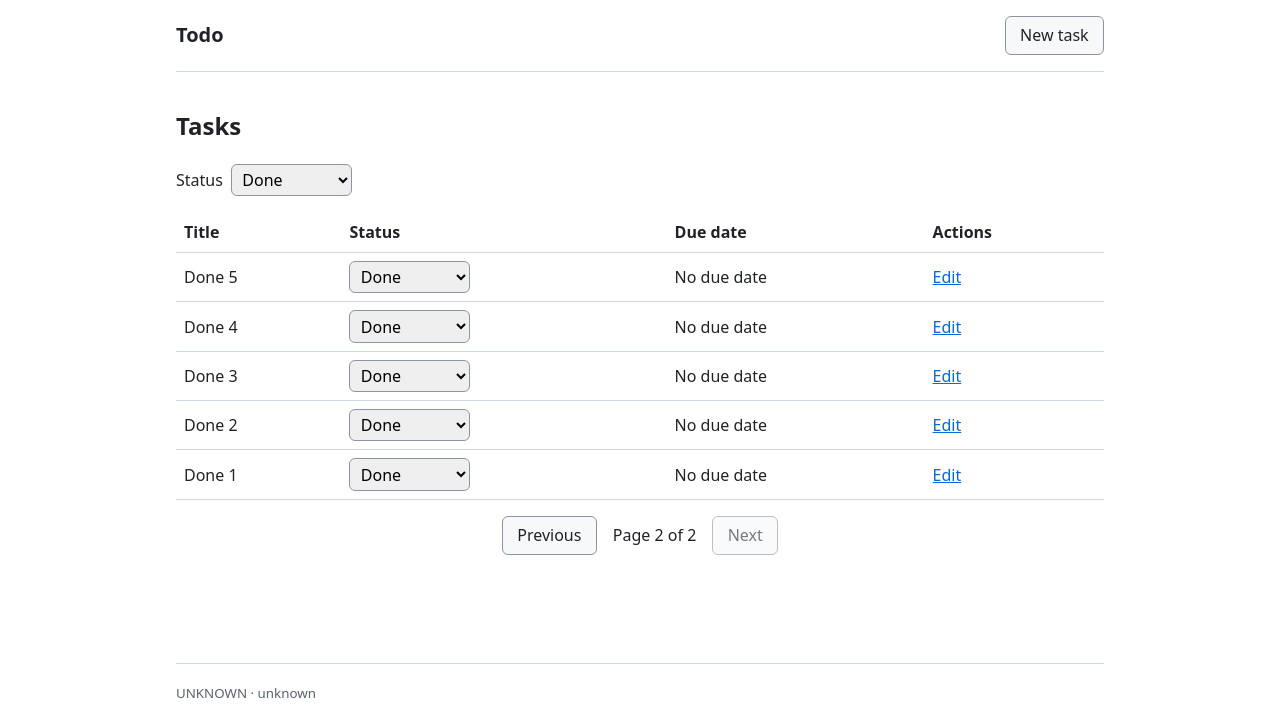
Scenario: SCRUM-6 task list status › SCRUM-6-AC-13: direct entry restores filter and page; paging keeps the filter
Expected: the text "Page 2 of 2" is shown, [613, 523, 696, 547]
Expected: the dropdown labelled "Status" shows "Done", [231, 164, 352, 196]
Click the button "Previous": {"x": 549, "y": 535} [502, 516, 597, 555]
(page scrolled)
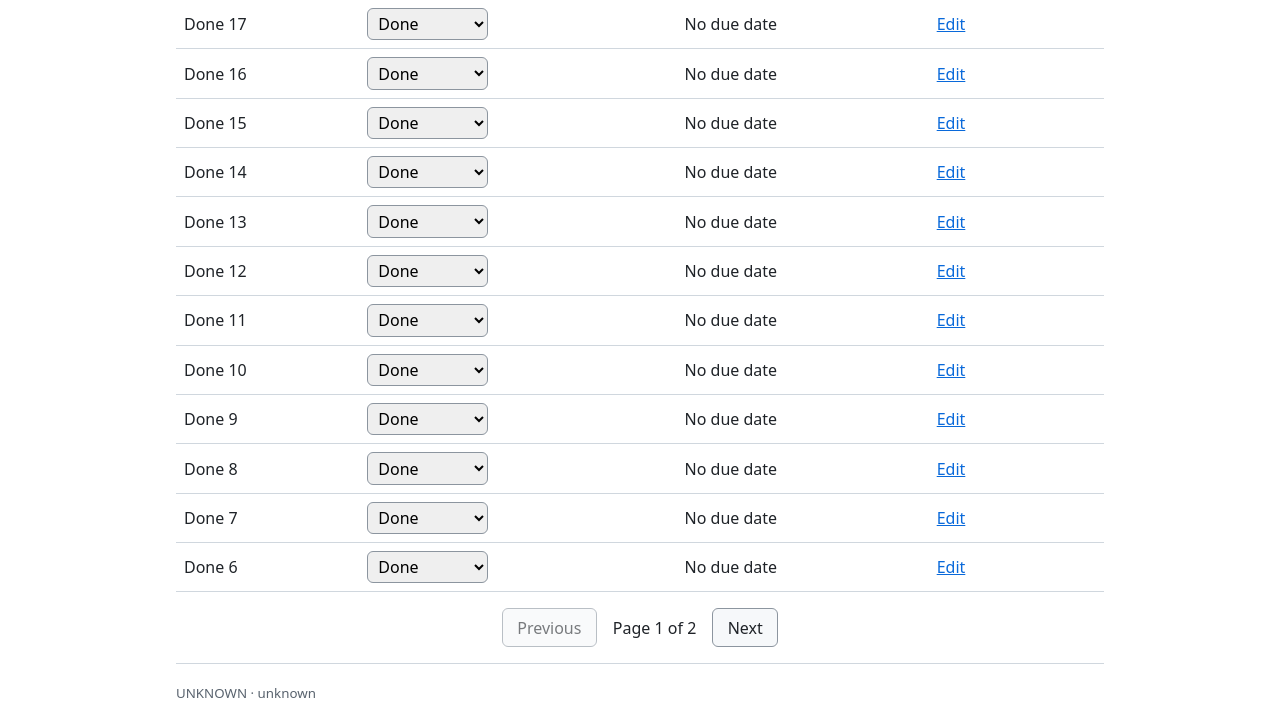
Expected: the text "Page 1 of 2" is shown, [613, 616, 696, 640]
Click the button "Next": {"x": 745, "y": 628} [712, 608, 778, 647]
(page scrolled)
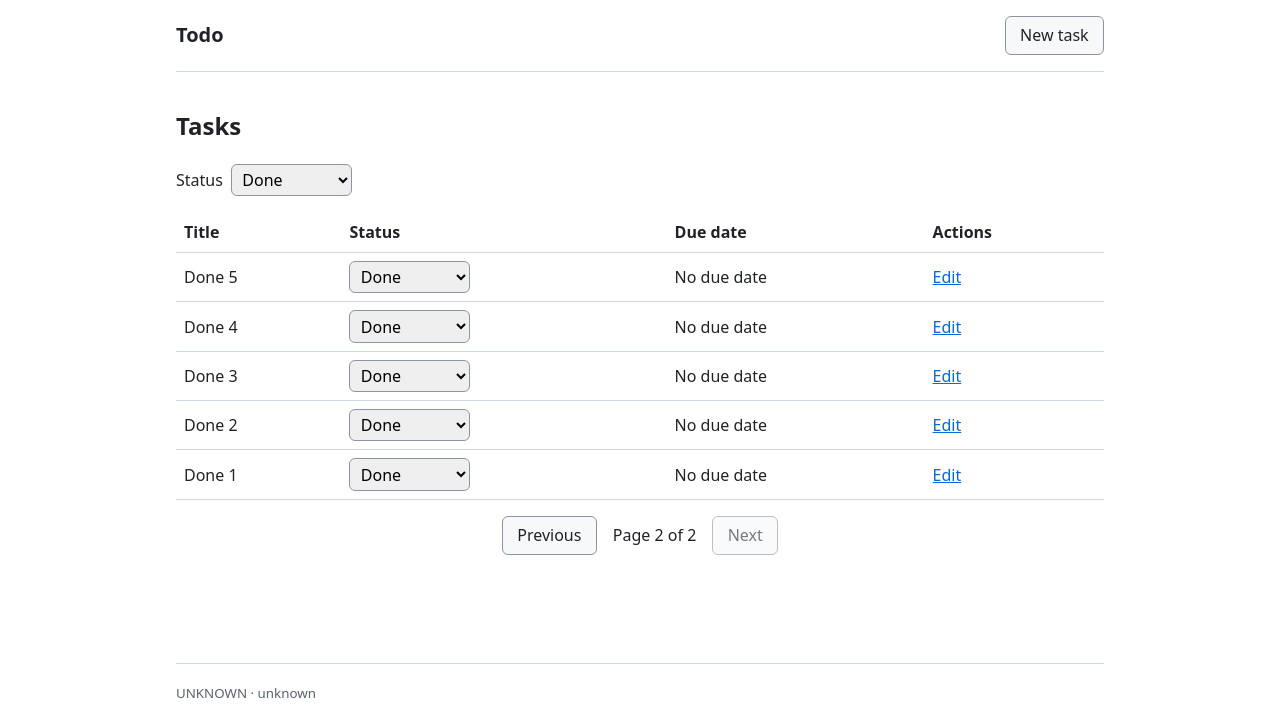
Expected: the text "Page 2 of 2" is shown, [613, 523, 696, 547]
